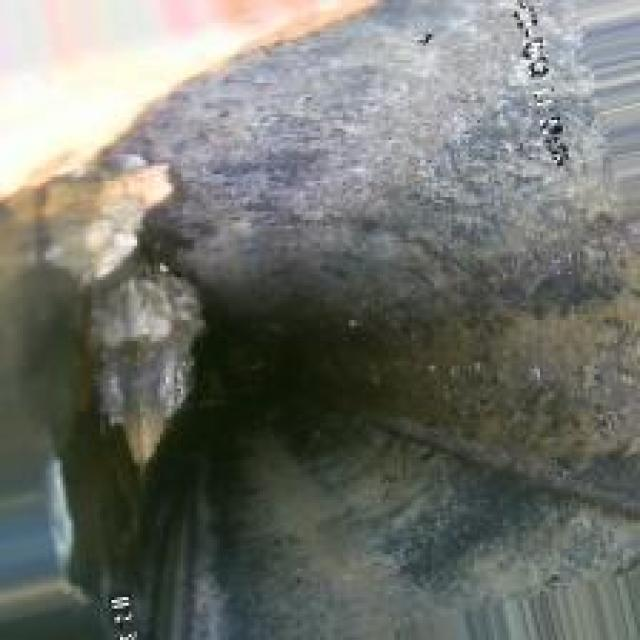stone: (46, 154, 206, 466)
